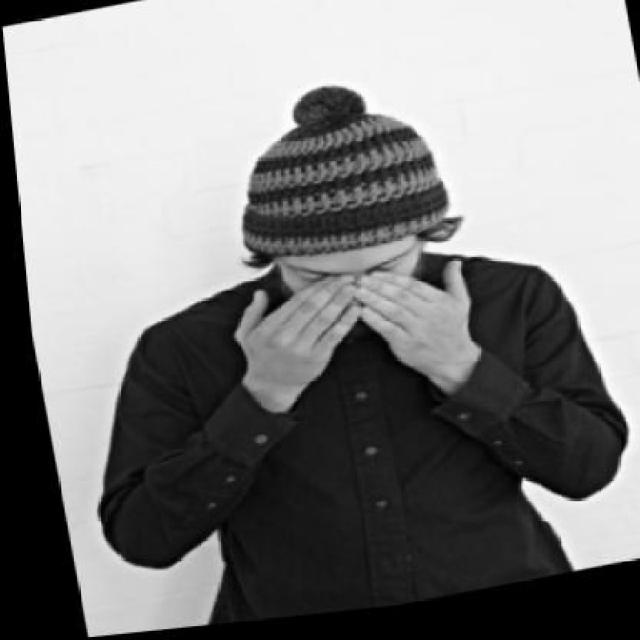hat: (202, 63, 458, 280)
